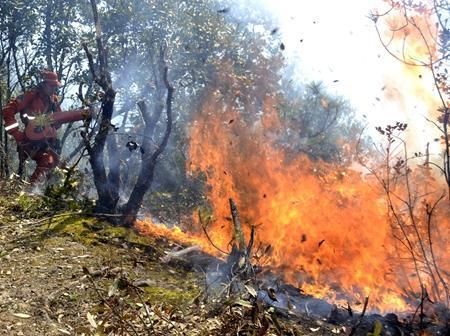fire: (124, 60, 448, 315), (371, 0, 444, 83)
